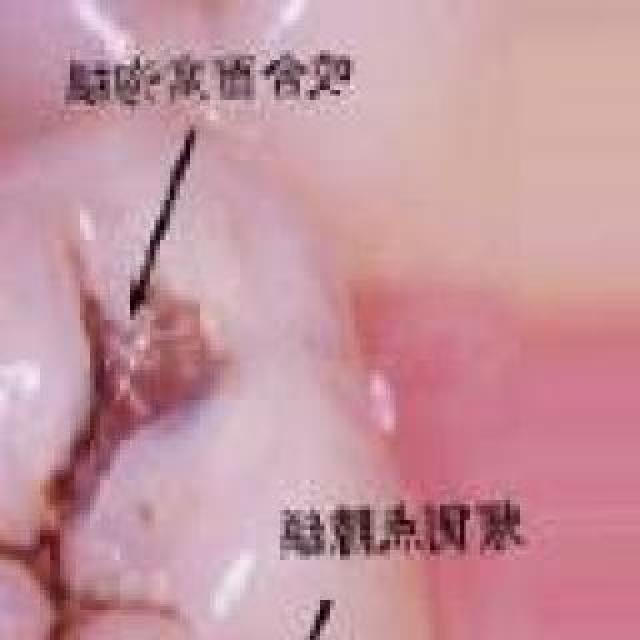cavities: (0, 320, 284, 640)
